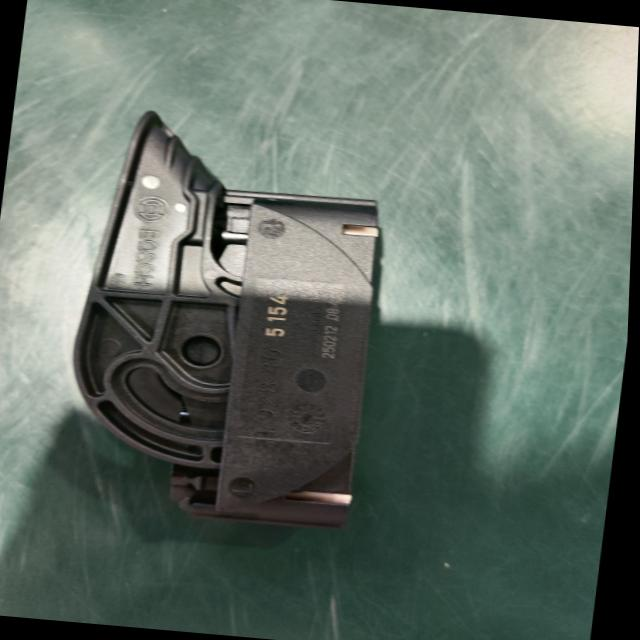P38: (76, 111, 380, 527)
